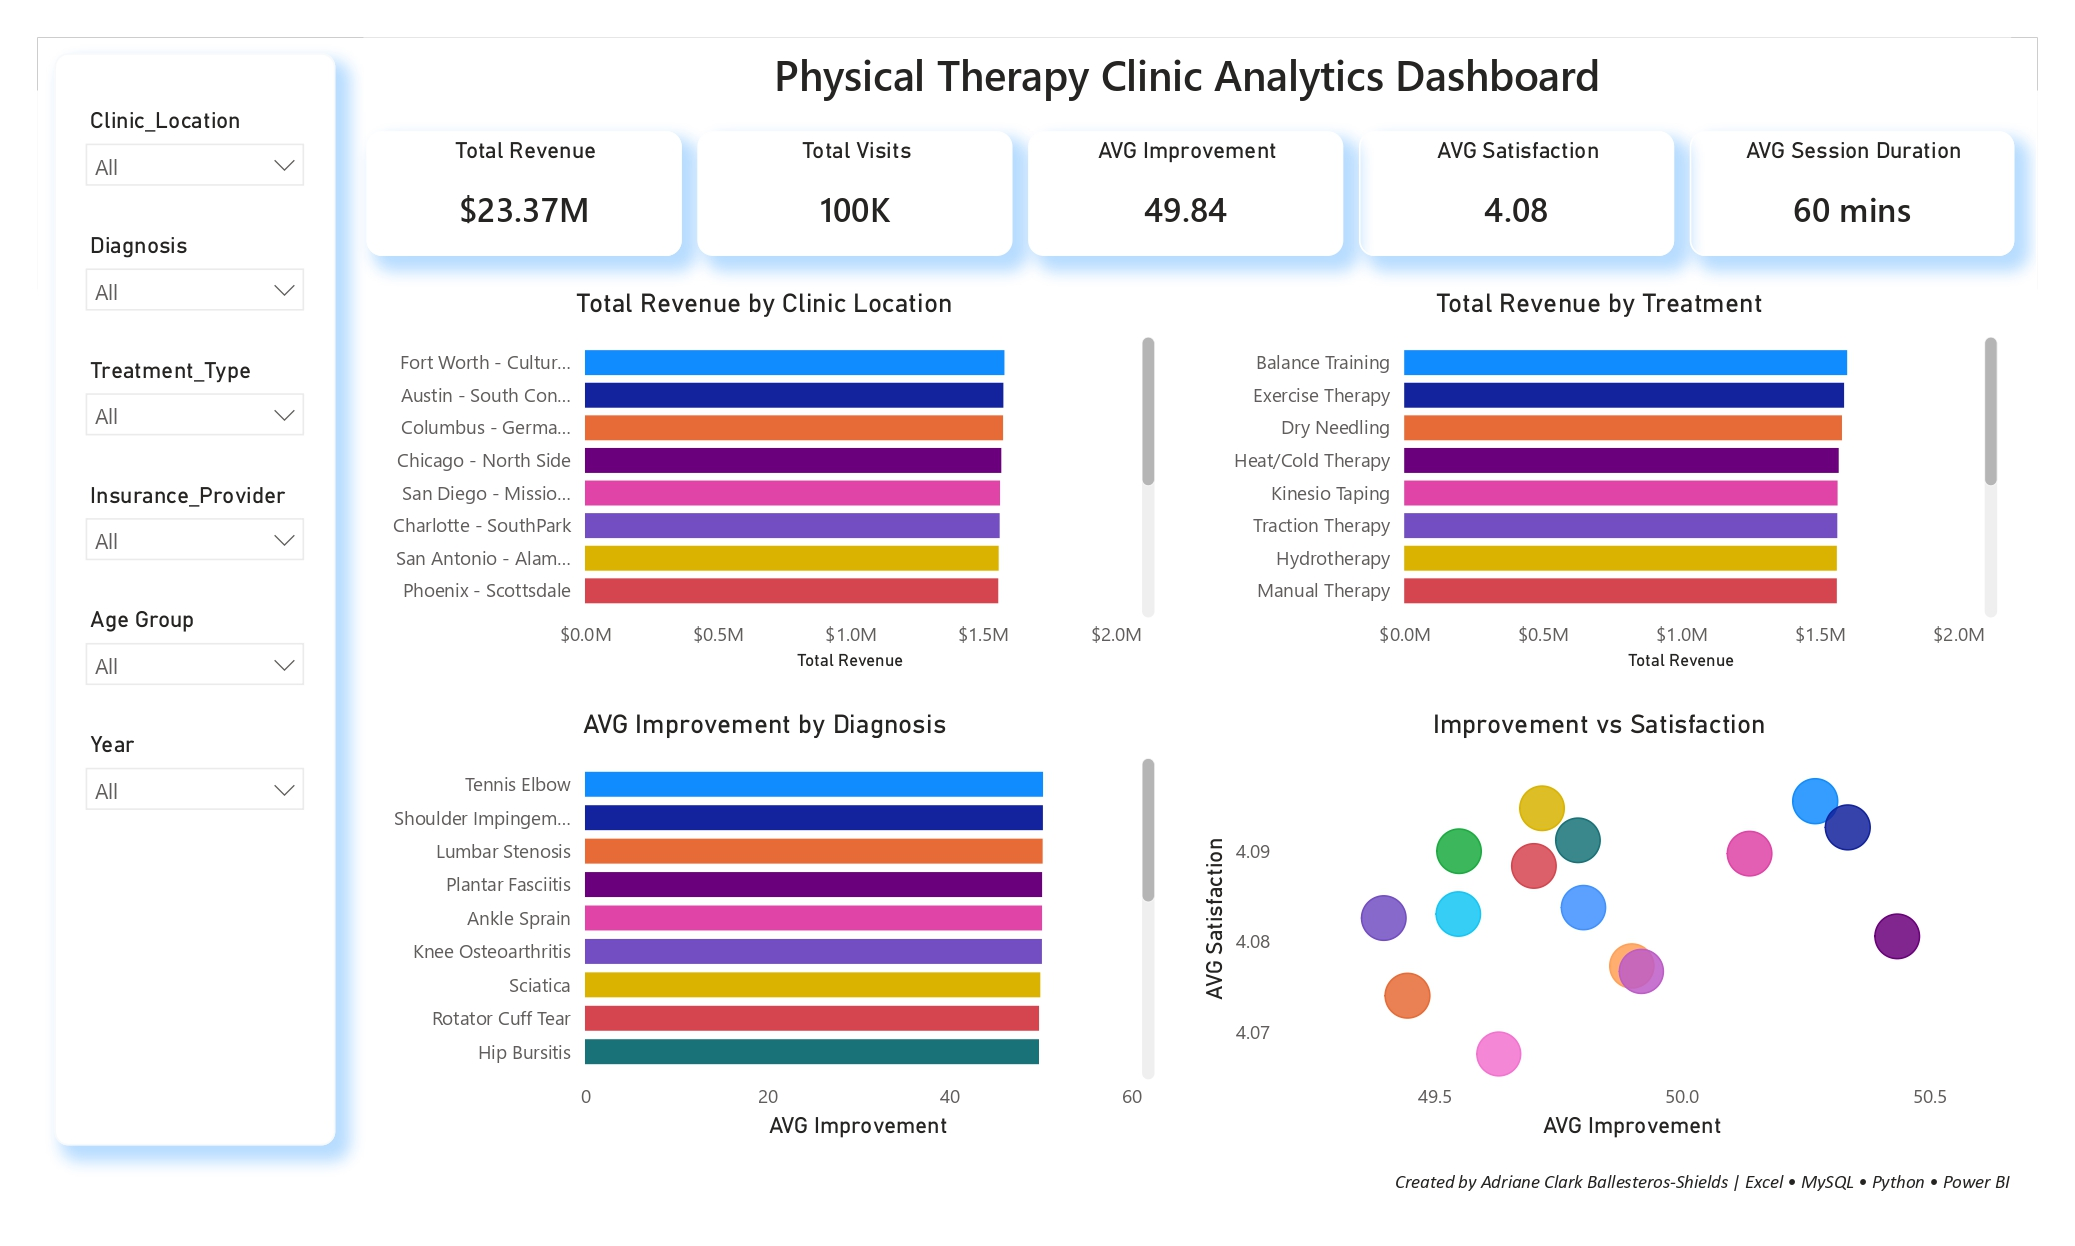

This screenshot's page, from the dashboard's own definition file:
{"tool":"powerbi","page":{"name":"Page 1","canvas":[1280,750],"ordinal":0},"visuals":[{"type":"shape","box":[10,10,180,700],"z":0},{"type":"textbox","box":[208,0,1056,48],"z":1000},{"type":"cardVisual","title":"Total Revenue","fields":{"Data":["physical_therapy_visits.Total Revenue"]},"box":[210,60,202,80],"z":2000},{"type":"cardVisual","title":"Total Visits","fields":{"Data":["physical_therapy_visits.Total Visits"]},"box":[422,60,202,80],"z":3000},{"type":"cardVisual","title":"AVG Improvement","fields":{"Data":["physical_therapy_visits.AVG Improvement"]},"box":[634,60,202,80],"z":4000},{"type":"cardVisual","title":"AVG Satisfaction","fields":{"Data":["physical_therapy_visits.AVG Satisfaction"]},"box":[846,60,202,80],"z":5000},{"type":"cardVisual","title":"AVG Session Duration","fields":{"Data":["physical_therapy_visits.Session Duration label"]},"box":[1058,60,208,80],"z":6000},{"type":"slicer","fields":{"Values":["physical_therapy_visits.Clinic_Location"]},"box":[20,40,160,70],"z":7000},{"type":"slicer","fields":{"Values":["physical_therapy_visits.Diagnosis"]},"box":[20,120,160,70],"z":8000},{"type":"slicer","fields":{"Values":["physical_therapy_visits.Treatment_Type"]},"box":[20,200,160,70],"z":9000},{"type":"slicer","fields":{"Values":["physical_therapy_visits.Insurance_Provider"]},"box":[20,280,160,70],"z":10000},{"type":"slicer","fields":{"Values":["physical_therapy_visits.Visit_Date.Variation.Date Hierarchy.Year"]},"box":[20,440,160,70],"z":11000},{"type":"slicer","fields":{"Values":["physical_therapy_visits.Age Group"]},"box":[20,360,160,70],"z":12000},{"type":"barChart","title":"Total Revenue by Clinic Location","fields":{"Category":["physical_therapy_visits.Clinic_Location"],"Y":["physical_therapy_visits.Total Revenue"],"Series":["physical_therapy_visits.Clinic_Location"]},"box":[210,160,510,250],"z":13000},{"type":"barChart","title":"Total Revenue by Treatment","fields":{"Category":["physical_therapy_visits.Treatment_Type"],"Y":["physical_therapy_visits.Total Revenue"],"Series":["physical_therapy_visits.Treatment_Type"]},"box":[740,160,520,250],"z":14000},{"type":"barChart","title":"AVG Improvement by Diagnosis","fields":{"Category":["physical_therapy_visits.Diagnosis"],"Y":["physical_therapy_visits.AVG Improvement"],"Series":["physical_therapy_visits.Diagnosis"]},"box":[210,430,510,280],"z":15000},{"type":"scatterChart","title":"Improvement vs Satisfaction","fields":{"X":["physical_therapy_visits.AVG Improvement"],"Y":["physical_therapy_visits.AVG Satisfaction"],"Size":["physical_therapy_visits.Total Revenue"],"Category":["physical_therapy_visits.Treatment_Type"]},"box":[740,430,520,280],"z":16000},{"type":"textbox","box":[864,718,416,32],"z":18000}]}

Visuals, with their boxes on the page's 1280x750 design canvas (x1, y1, x2, y2). These are canvas units, not pixel positions in the 2075x1246 screenshot, which may show the page scaled, cropped or inside an application window:
shape: (10,10,190,710)
textbox: (208,0,1264,48)
"Total Revenue" cardVisual: (210,60,412,140)
"Total Visits" cardVisual: (422,60,624,140)
"AVG Improvement" cardVisual: (634,60,836,140)
"AVG Satisfaction" cardVisual: (846,60,1048,140)
"AVG Session Duration" cardVisual: (1058,60,1266,140)
slicer - physical_therapy_visits.Clinic_Location: (20,40,180,110)
slicer - physical_therapy_visits.Diagnosis: (20,120,180,190)
slicer - physical_therapy_visits.Treatment_Type: (20,200,180,270)
slicer - physical_therapy_visits.Insurance_Provider: (20,280,180,350)
slicer - physical_therapy_visits.Visit_Date.Variation.Date Hierarchy.Year: (20,440,180,510)
slicer - physical_therapy_visits.Age Group: (20,360,180,430)
"Total Revenue by Clinic Location" barChart: (210,160,720,410)
"Total Revenue by Treatment" barChart: (740,160,1260,410)
"AVG Improvement by Diagnosis" barChart: (210,430,720,710)
"Improvement vs Satisfaction" scatterChart: (740,430,1260,710)
textbox: (864,718,1280,750)
